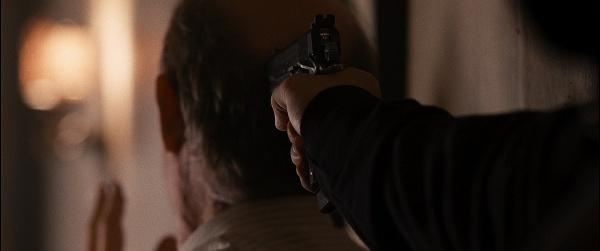Gun: (270, 14, 340, 94)
